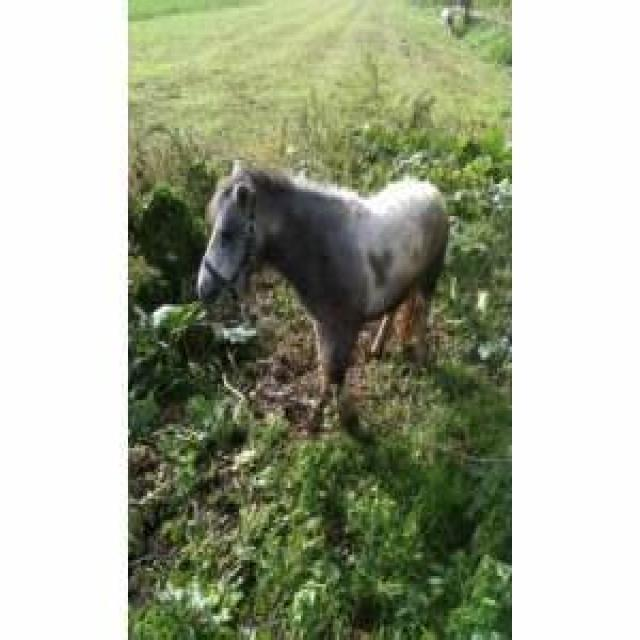animal: (200, 168, 437, 410)
